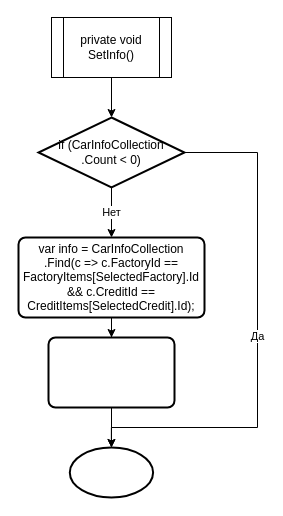
Some shapes in this 283 by 516 pixel diagram are drawn without their labels. The box of each missing label's shape, as (x1, y1, x2, y2) in pixels:
TotalCost = (float)info.TotalCost; MonthlyPay = (float)info.MonthlyPay;: (47, 336, 175, 408)
Конец: (68, 446, 154, 498)
